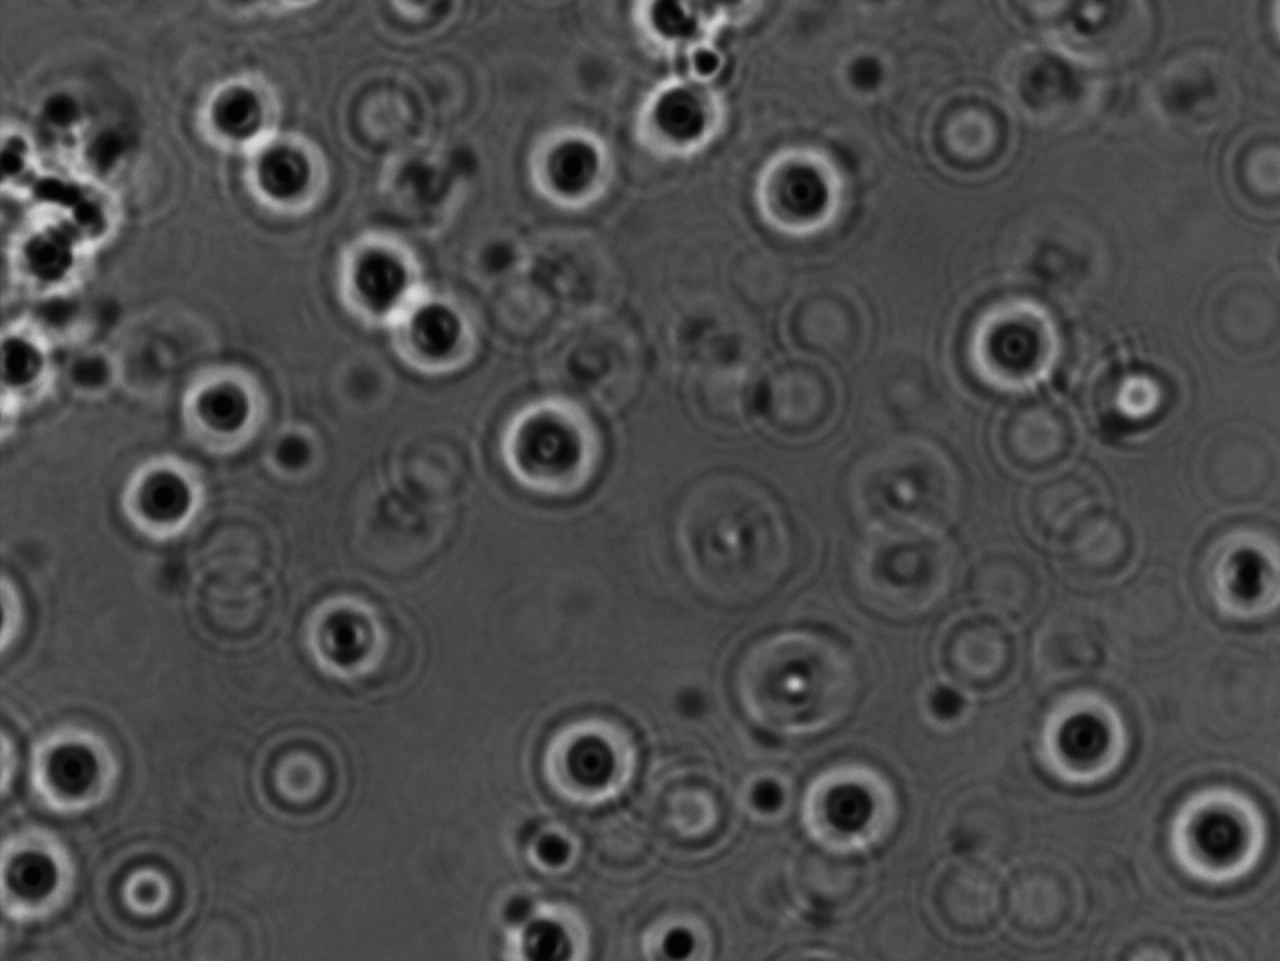depth:-16: (1150, 759, 1280, 902), (730, 130, 873, 258), (483, 378, 610, 522), (526, 690, 667, 820), (106, 441, 243, 571), (1016, 673, 1153, 804), (776, 735, 911, 865), (277, 572, 407, 706), (951, 275, 1075, 411), (159, 337, 283, 468), (236, 112, 357, 238), (305, 206, 429, 323), (16, 700, 131, 826), (1169, 497, 1280, 627), (509, 109, 628, 221), (367, 276, 488, 386), (178, 54, 294, 156), (619, 67, 730, 171)
